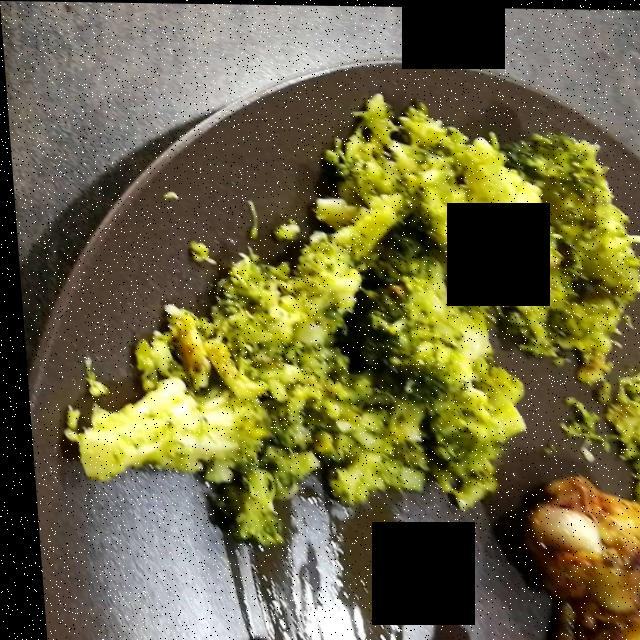broccoli: (58, 105, 627, 540)
